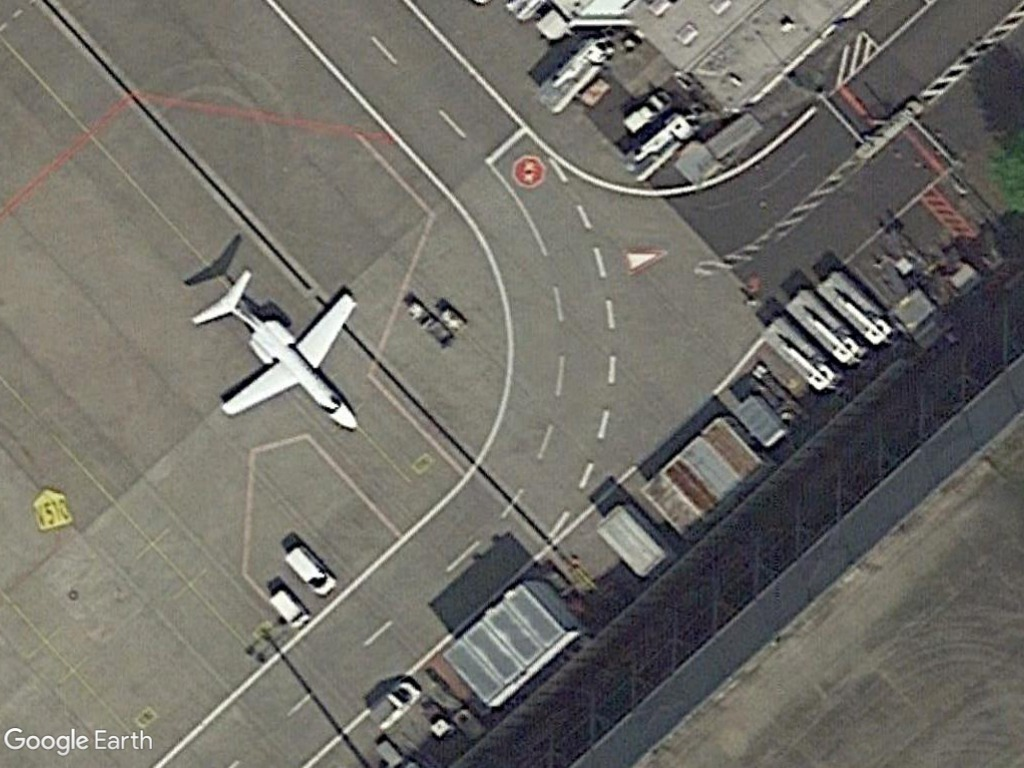chartered: (172, 253, 387, 450)
van: (279, 532, 342, 603), (249, 584, 322, 633)
